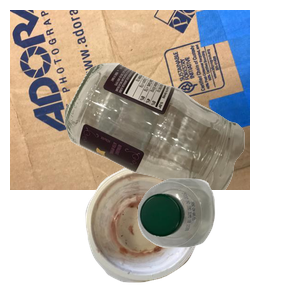cardboard: (10, 10, 250, 190)
glass: (62, 60, 300, 240)
plastic: (135, 176, 300, 300)
trash: (83, 163, 276, 300)
